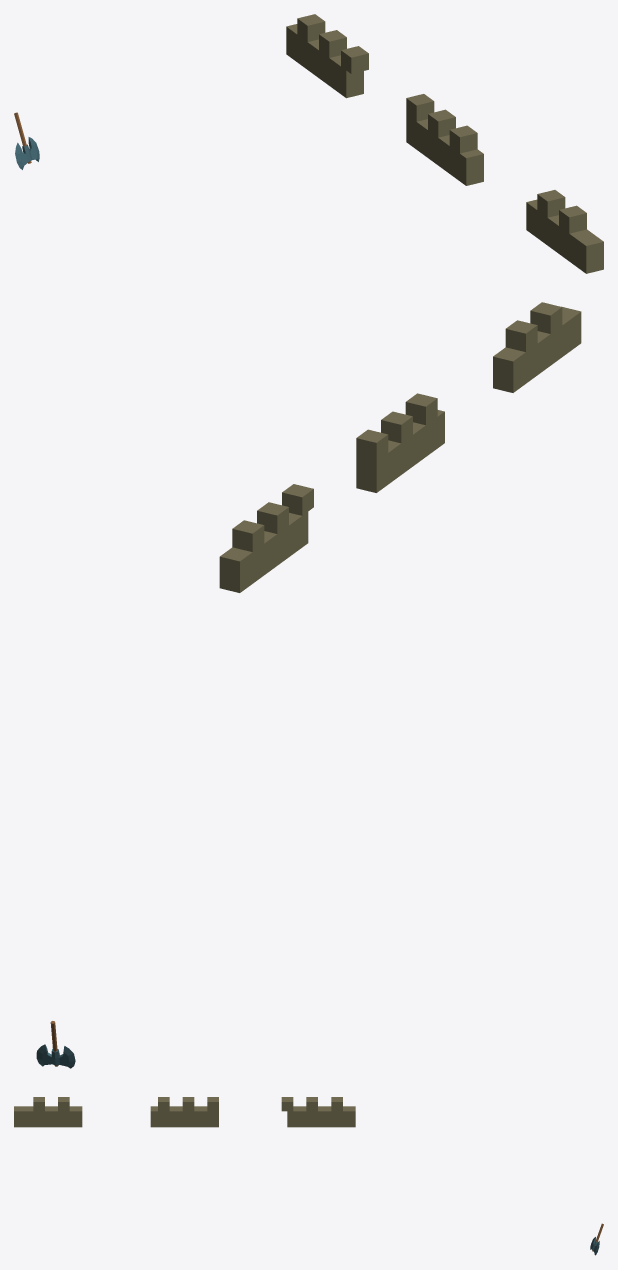
The picture shows the model from 3 angles, top to bottom: view 1: azimuth 30°, elevation 25°; view 2: azimuth 150°, elevation 25°; view 3: azimuth 270°, elevation 25°; orthographic projection. The views are drawn at different scales.
Parts seen in each view (by area): view 1: Object249_rock2_0, Object244_rock2_0, Object245_rock2_0, Box15469_rock2_0, Box15482_rock2_0, Box15472_rock2_0, Box15467_rock2_0, Box15470_rock2_0, Box15481_rock2_0, Box15471_rock2_0, Box15468_rock2_0, Plane550_metal_0; view 2: Object249_rock2_0, Object245_rock2_0, Object244_rock2_0; view 3: Object249_rock2_0, Object245_rock2_0, Object244_rock2_0.
Boxes of the visible parts, <box> form: Object249_rock2_0: <box>526,199,603,273</box>; Object244_rock2_0: <box>406,114,483,185</box>; Object245_rock2_0: <box>286,24,363,98</box>; Box15469_rock2_0: <box>449,125,477,153</box>; Box15482_rock2_0: <box>559,205,586,233</box>; Box15472_rock2_0: <box>341,46,368,73</box>; Box15467_rock2_0: <box>406,94,434,121</box>; Box15470_rock2_0: <box>297,14,325,41</box>; Box15481_rock2_0: <box>537,190,565,217</box>; Box15471_rock2_0: <box>319,30,346,57</box>; Box15468_rock2_0: <box>428,109,455,137</box>; Plane550_metal_0: <box>15,137,39,169</box>; Object249_rock2_0: <box>493,306,581,392</box>; Object245_rock2_0: <box>219,512,308,592</box>; Object244_rock2_0: <box>356,410,444,492</box>; Object249_rock2_0: <box>14,1106,82,1127</box>; Object245_rock2_0: <box>287,1106,355,1127</box>; Object244_rock2_0: <box>150,1106,218,1127</box>.
Bounding box in the file's own units: 181 × 640 × 2024.
